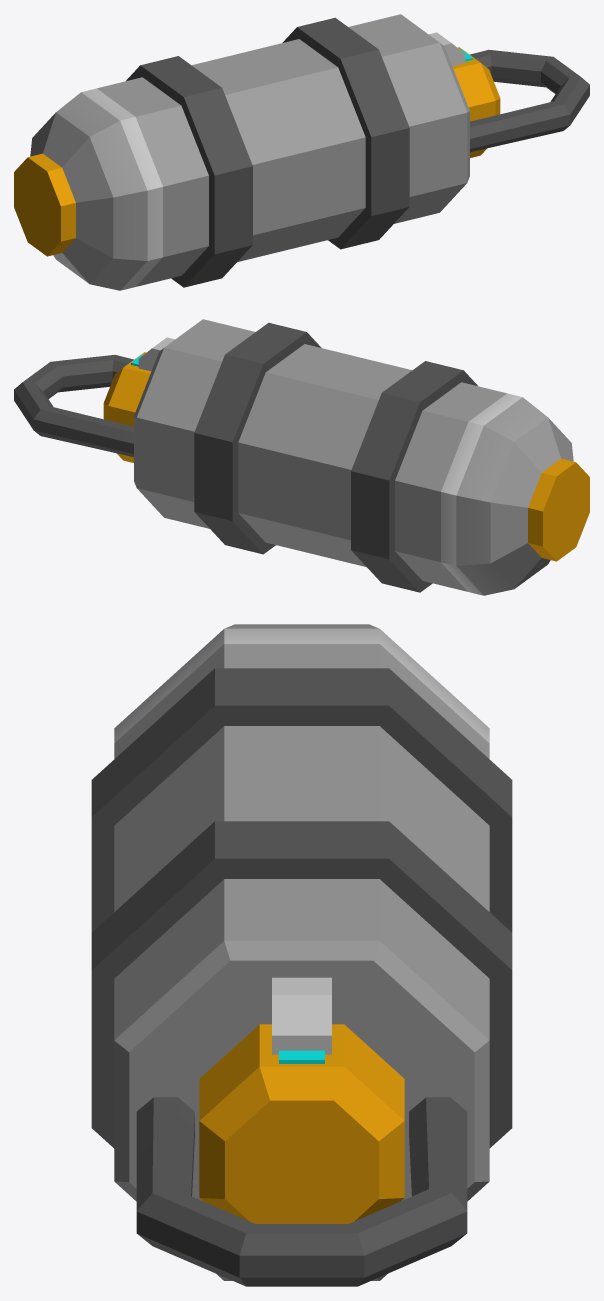
3 renders of one model, top to bottom at view 1: azimuth 30°, elevation 25°; view 2: azimuth 150°, elevation 25°; view 3: azimuth 270°, elevation 25°, orthographic. The views are drawn at different scales.
Parts seen in each view (by area): view 1: SM_FT01_Cylinder; view 2: SM_FT01_Cylinder; view 3: SM_FT01_Cylinder.
Boxes of the visible parts, bbox=[...] form: SM_FT01_Cylinder: bbox=[14, 14, 589, 290]; SM_FT01_Cylinder: bbox=[14, 319, 589, 595]; SM_FT01_Cylinder: bbox=[91, 624, 512, 1286].
Size of the model in its own units: 38.84 by 13.17 by 13.17.
